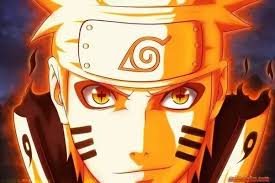Naruto: (46, 1, 229, 183)
